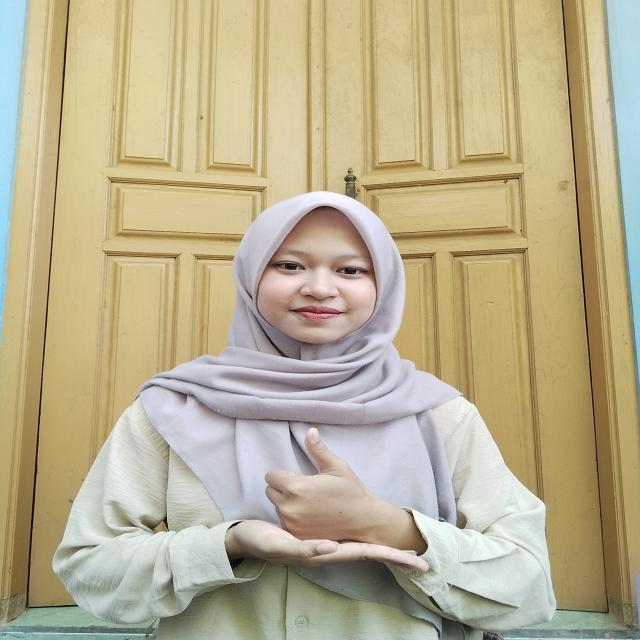cantik: (236, 422, 434, 594)
